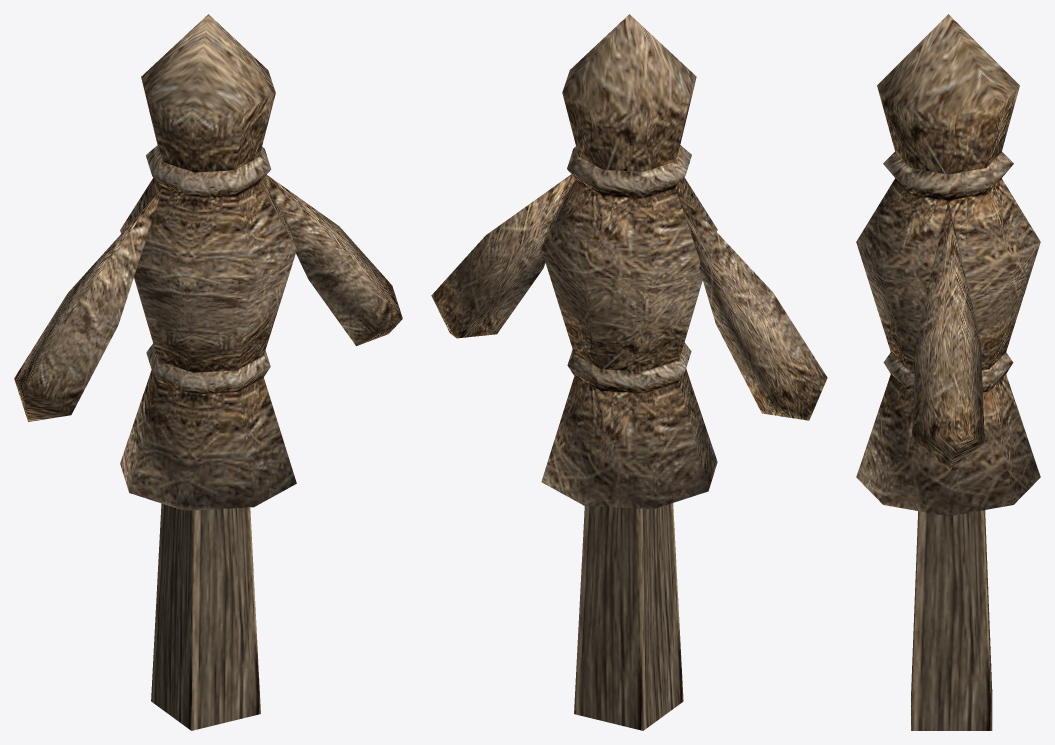
File: StrawDoll.FBX
The picture shows the model from 3 angles, left to right: view 1: azimuth 30°, elevation 25°; view 2: azimuth 150°, elevation 25°; view 3: azimuth 270°, elevation 25°; orthographic projection.
Parts seen in each view (by area): view 1: StrawDoll; view 2: StrawDoll; view 3: StrawDoll.
Boxes of the visible parts, left/top/right/bottom form: StrawDoll: left=14, top=14, right=402, bottom=730; StrawDoll: left=431, top=14, right=827, bottom=730; StrawDoll: left=856, top=14, right=1040, bottom=730.
Bounding box in the file's own units: 152 × 265 × 63.2.
